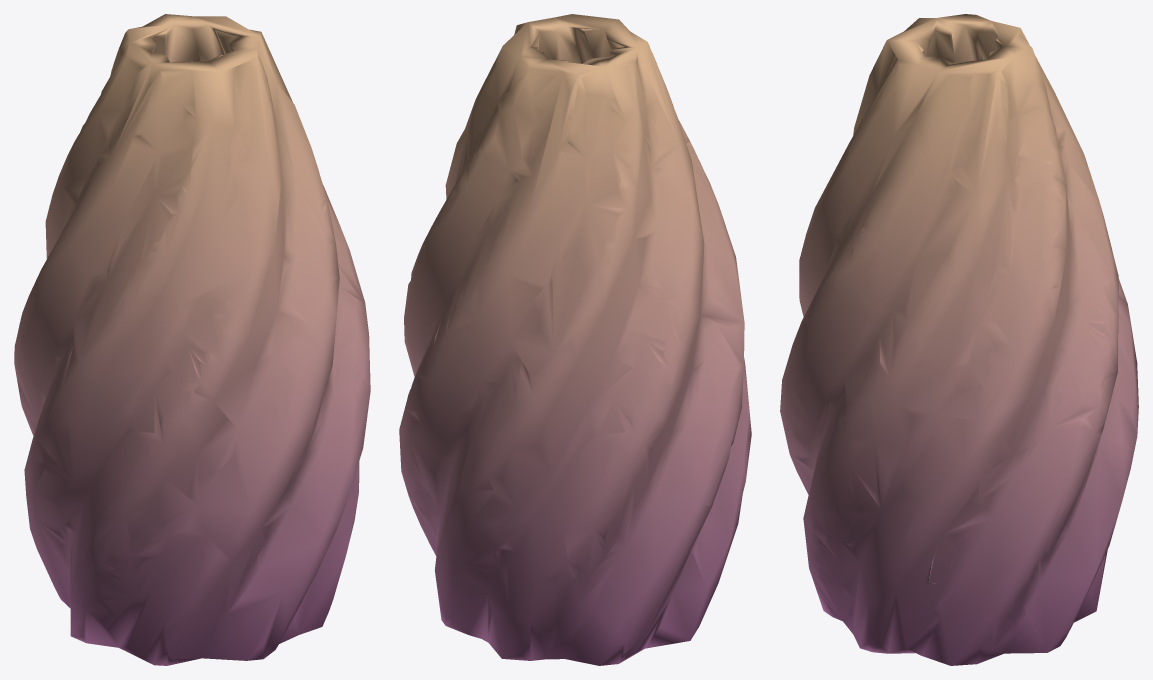
The model's file is vase_6000.glb.
The picture shows the model from 3 angles, left to right: view 1: azimuth 30°, elevation 25°; view 2: azimuth 150°, elevation 25°; view 3: azimuth 270°, elevation 25°; orthographic projection.
Visible parts, largest first — view 1: vase_6000; view 2: vase_6000; view 3: vase_6000.
Boxes of the visible parts, x1=… form: vase_6000: x1=14, y1=14, x2=370, y2=665; vase_6000: x1=399, y1=14, x2=751, y2=665; vase_6000: x1=780, y1=14, x2=1138, y2=665.
Bounding box in the file's own units: 0.0533 × 0.0925 × 0.0531.
